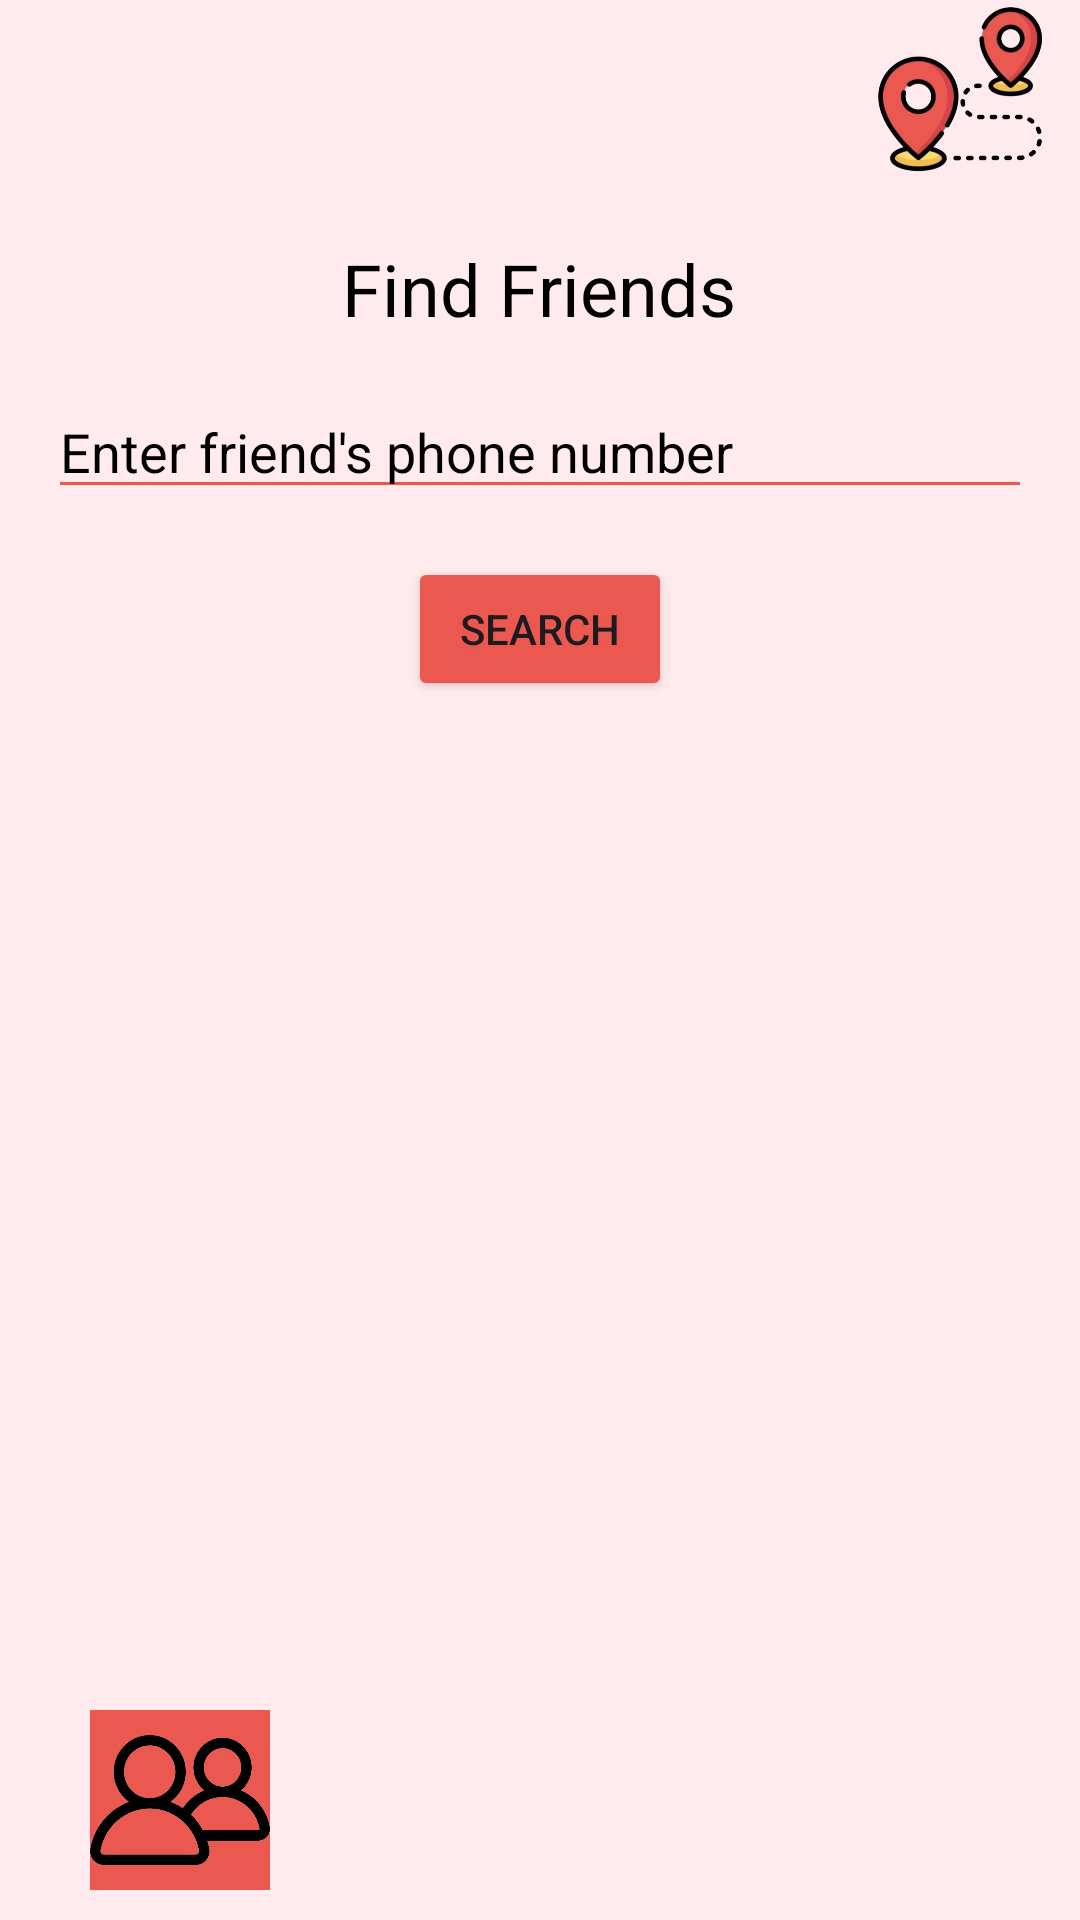

Point at icon controls on the screen. Image size 1080x1920, points as (x=x, y=y).
cfriends: (x=180, y=1800)
